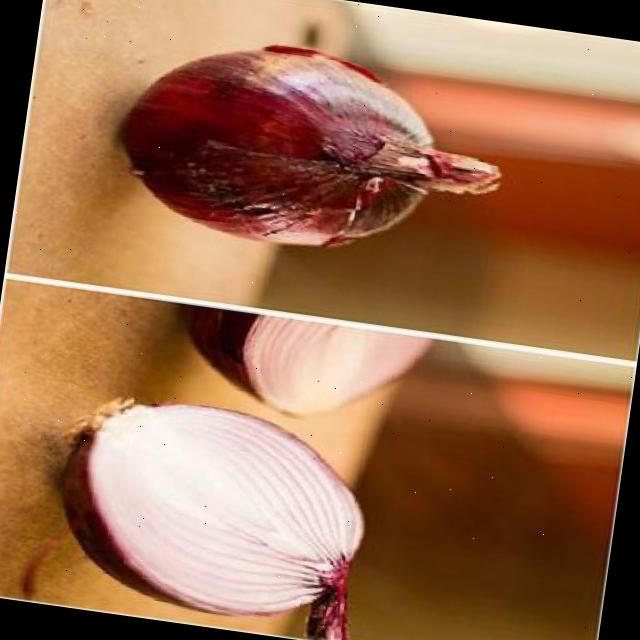Onion: (121, 45, 500, 245)
